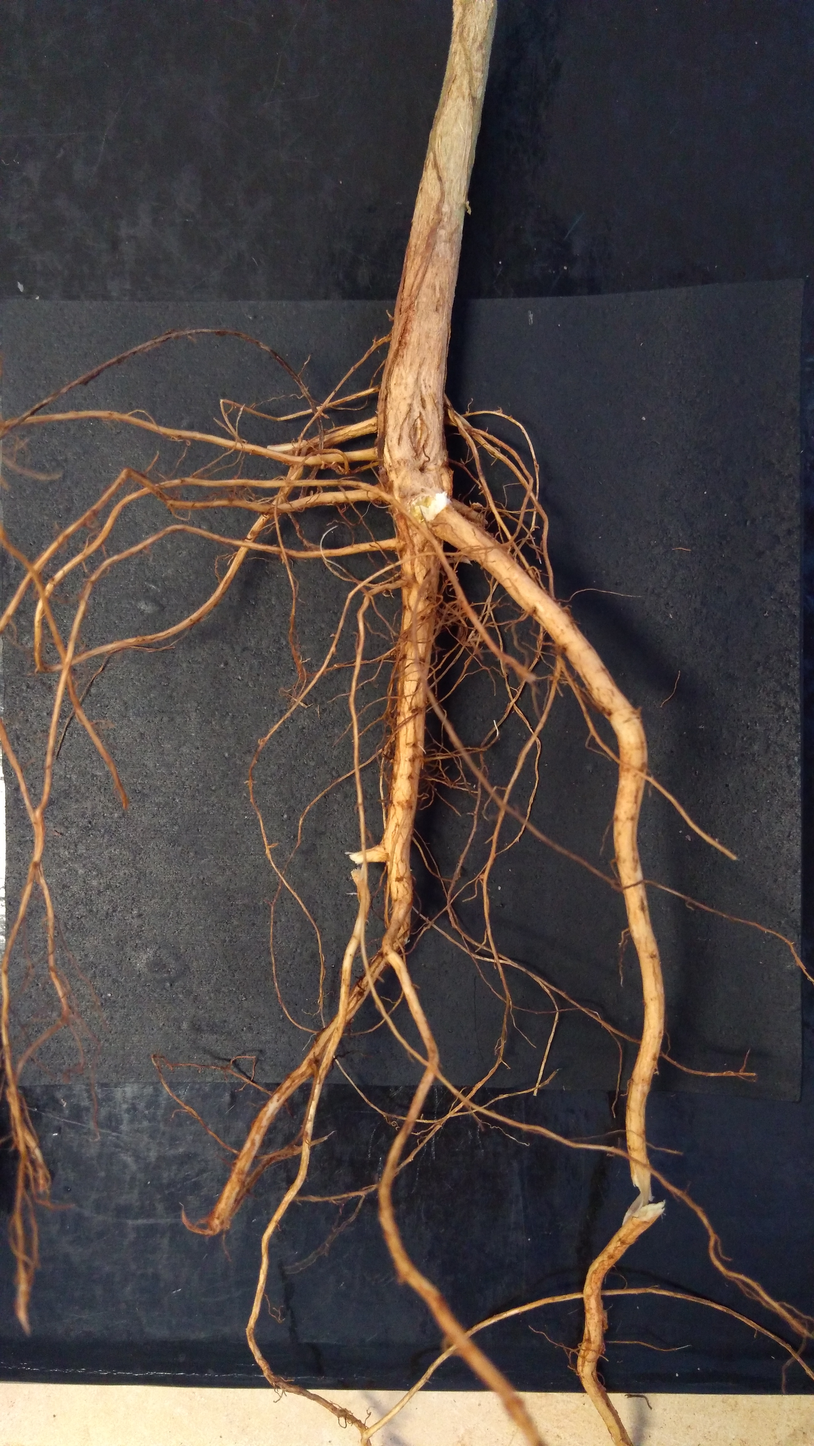nodule: (323, 462, 345, 475), (382, 741, 395, 758), (390, 645, 403, 660), (377, 467, 389, 483), (307, 543, 324, 553), (601, 1309, 608, 1333), (465, 200, 472, 215), (457, 625, 464, 639), (470, 501, 482, 509), (388, 717, 397, 724), (391, 723, 396, 733), (348, 1018, 355, 1024), (389, 758, 394, 763)
